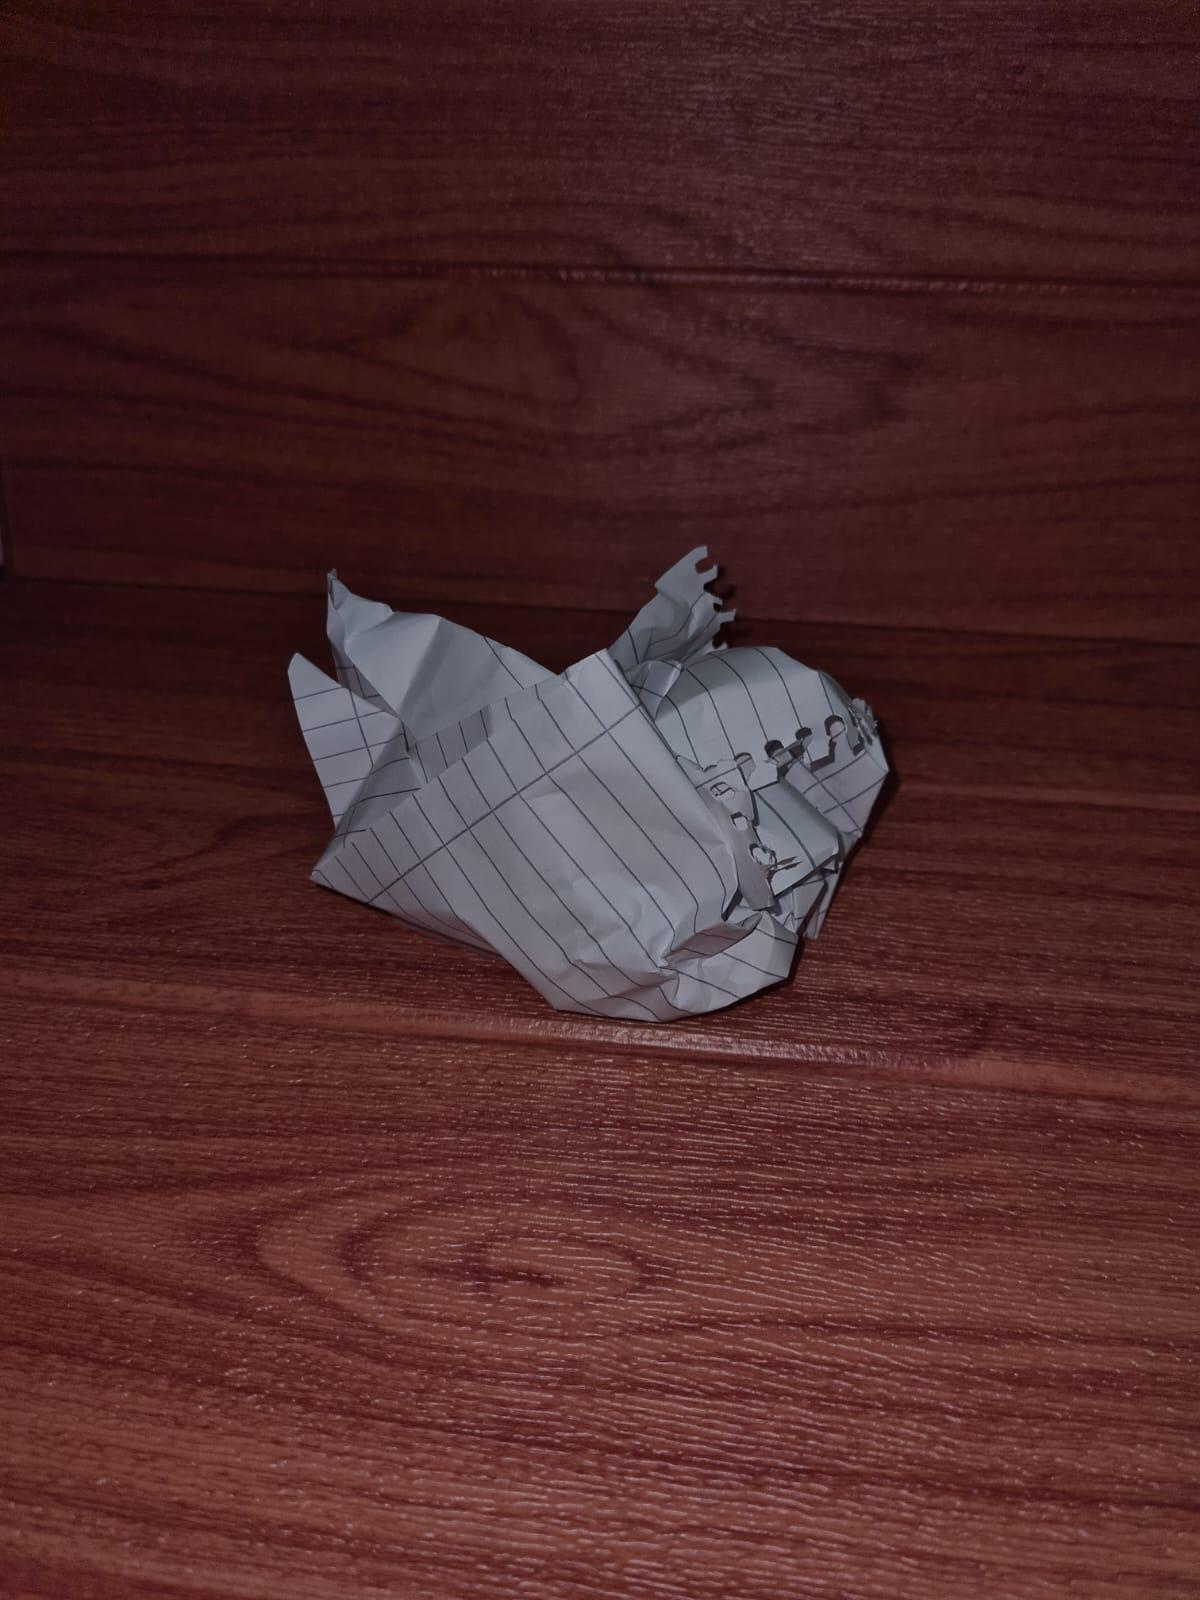Paper: (281, 574, 893, 1007)
